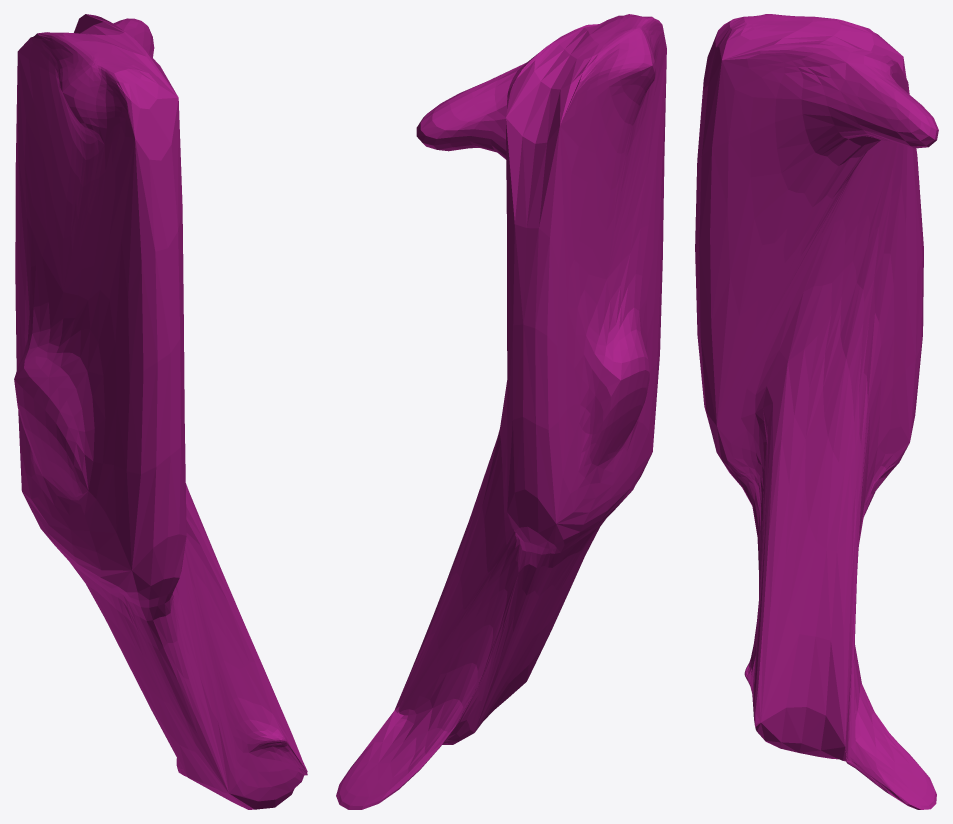
3 renders of one model, left to right at view 1: azimuth 30°, elevation 25°; view 2: azimuth 150°, elevation 25°; view 3: azimuth 270°, elevation 25°, orthographic. The views are drawn at different scales.
Parts seen in each view (by area): view 1: 447_Cube.1812; view 2: 447_Cube.1812; view 3: 447_Cube.1812.
Boxes of the visible parts, left/top/right/bottom form: 447_Cube.1812: left=14, top=14, right=307, bottom=809; 447_Cube.1812: left=336, top=14, right=666, bottom=809; 447_Cube.1812: left=695, top=14, right=938, bottom=809.
Bounding box in the file's own units: 6.56 × 19.16 × 6.03.
